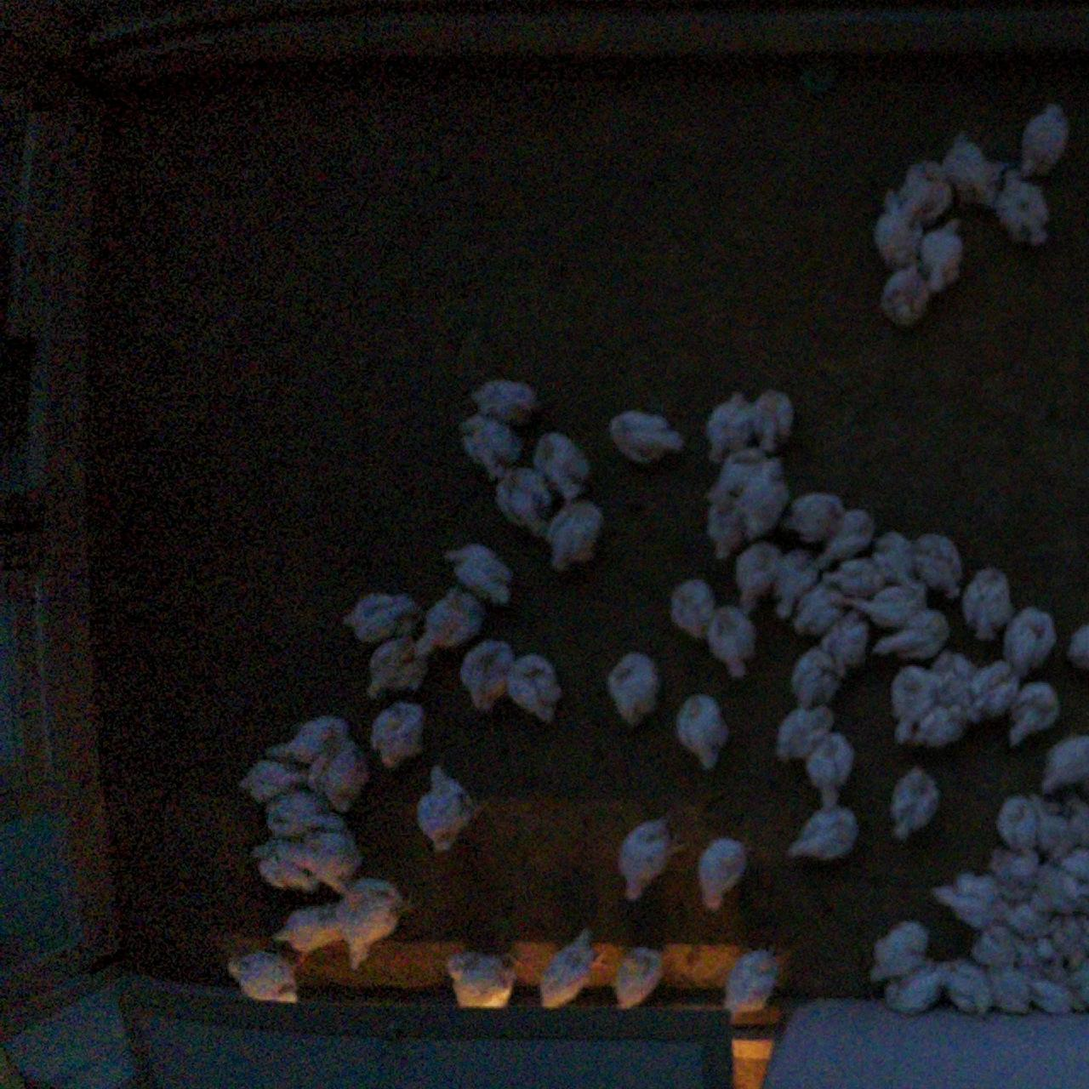chicken: (336, 869, 418, 971), (407, 756, 483, 856), (531, 918, 607, 1013), (438, 532, 518, 617), (612, 808, 680, 906), (271, 817, 359, 891), (528, 422, 602, 507), (602, 645, 668, 740), (596, 398, 684, 468), (501, 645, 576, 727), (219, 935, 302, 1009), (726, 933, 794, 1022), (699, 598, 765, 687), (939, 125, 1009, 208), (992, 596, 1060, 680), (1016, 88, 1073, 188), (358, 628, 434, 703), (415, 580, 486, 659), (438, 940, 518, 1009), (912, 215, 978, 298), (361, 688, 432, 764), (765, 697, 847, 762), (865, 908, 938, 981), (865, 179, 921, 274), (786, 796, 863, 865), (498, 456, 561, 540), (449, 401, 524, 470), (673, 680, 729, 772), (697, 456, 746, 561), (954, 560, 1015, 644), (996, 161, 1054, 248), (536, 496, 604, 570), (315, 733, 377, 813), (453, 635, 513, 715), (337, 584, 429, 636), (1005, 678, 1064, 759), (927, 865, 1005, 926), (697, 383, 760, 458), (264, 788, 349, 843), (892, 758, 946, 844), (830, 577, 932, 622), (888, 658, 942, 742), (270, 899, 353, 953), (231, 748, 317, 800), (1029, 729, 1089, 803), (774, 487, 848, 547), (288, 705, 357, 769), (880, 252, 934, 333), (901, 527, 964, 596), (926, 952, 991, 1018), (799, 727, 859, 798), (873, 611, 952, 664), (907, 148, 964, 221), (882, 957, 949, 1019), (730, 457, 786, 530), (692, 830, 743, 909), (610, 939, 667, 1009), (960, 659, 1018, 727), (664, 574, 720, 644), (1033, 901, 1089, 971), (790, 575, 850, 640), (730, 536, 781, 611), (468, 371, 546, 419), (751, 381, 804, 450), (817, 498, 872, 564), (786, 643, 848, 701), (991, 785, 1044, 852), (244, 838, 312, 889), (766, 546, 814, 617), (1031, 967, 1089, 1023), (1039, 848, 1089, 912), (1041, 794, 1089, 857), (986, 852, 1047, 901), (972, 925, 1030, 974), (870, 525, 919, 581), (929, 651, 971, 710), (915, 704, 970, 749), (1005, 891, 1060, 935), (991, 972, 1035, 1017), (1064, 615, 1089, 666)
